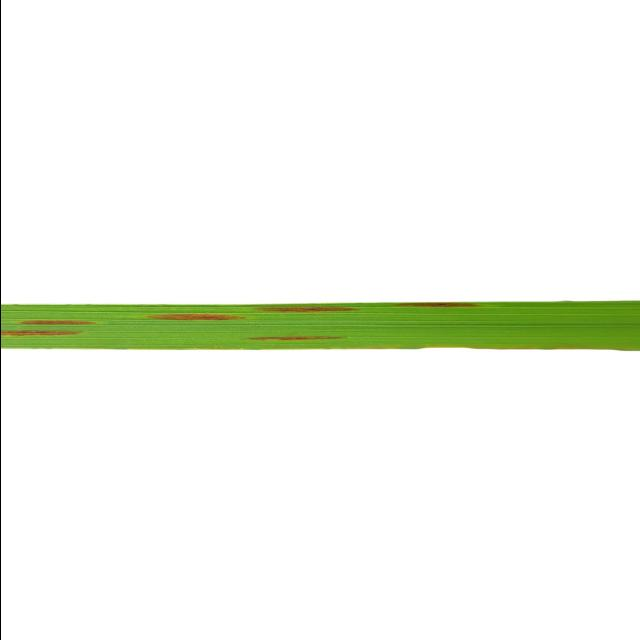Narrow brown: (0, 267, 640, 398)
